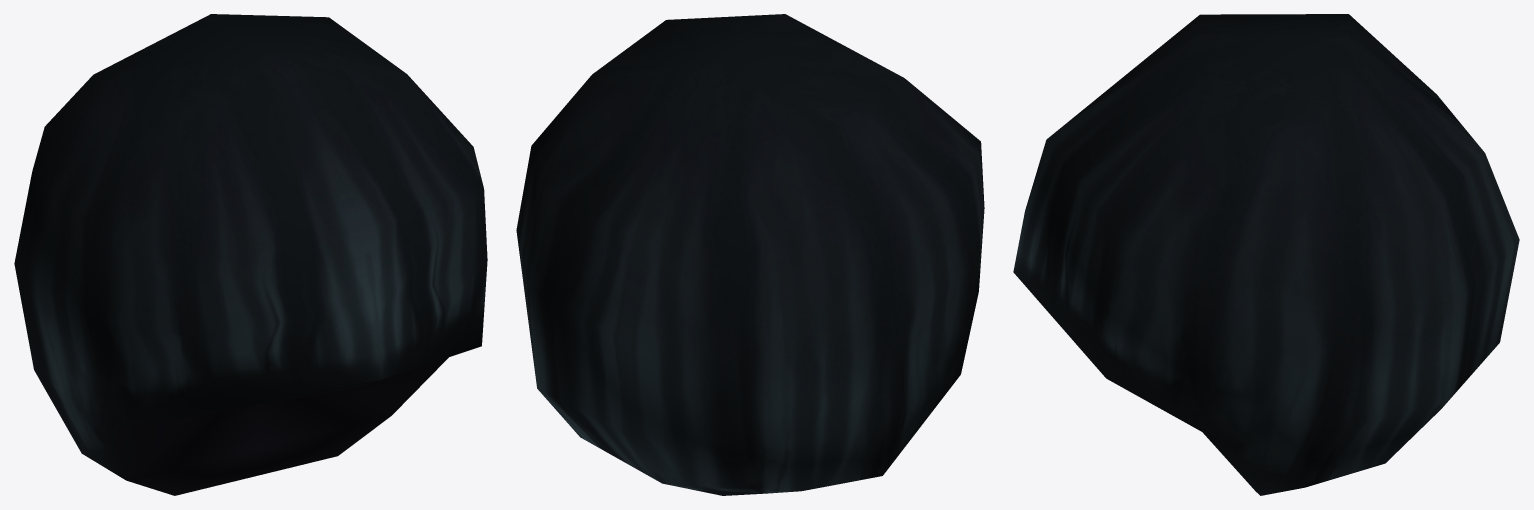
File: character_Head03.FBX
The picture shows the model from 3 angles, left to right: view 1: azimuth 30°, elevation 25°; view 2: azimuth 150°, elevation 25°; view 3: azimuth 270°, elevation 25°; orthographic projection. The views are drawn at different scales.
Visible parts, largest first — view 1: Sphere126; view 2: Sphere126; view 3: Sphere126.
Part boxes in pixels (left/top/right/bottom): Sphere126: left=14, top=14, right=487, bottom=495; Sphere126: left=516, top=14, right=984, bottom=495; Sphere126: left=1013, top=14, right=1519, bottom=495.
Size of the model in its own units: 36.46 by 39.36 by 42.24.
